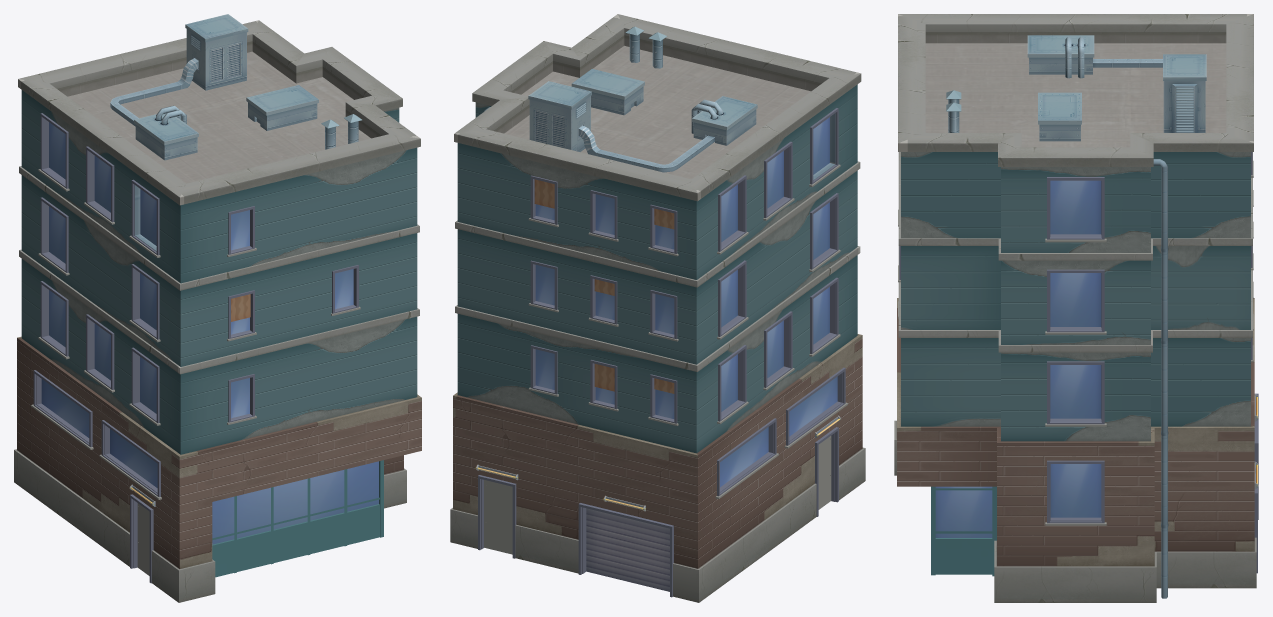
Rendered from Building_05_1_LOD2.fbx.
3 views of the same model, side by side, from view 1: azimuth 30°, elevation 25°; view 2: azimuth 150°, elevation 25°; view 3: azimuth 270°, elevation 25° (orthographic). The views are drawn at different scales.
Parts seen in each view (by area): view 1: polySurface4171; view 2: polySurface4171; view 3: polySurface4171.
Boxes of the visible parts, box(x1,y1,x2,y2) form: polySurface4171: box(14, 14, 421, 602); polySurface4171: box(450, 14, 865, 602); polySurface4171: box(894, 14, 1258, 602).
Size of the model in its own units: 921 by 1409 by 956.
